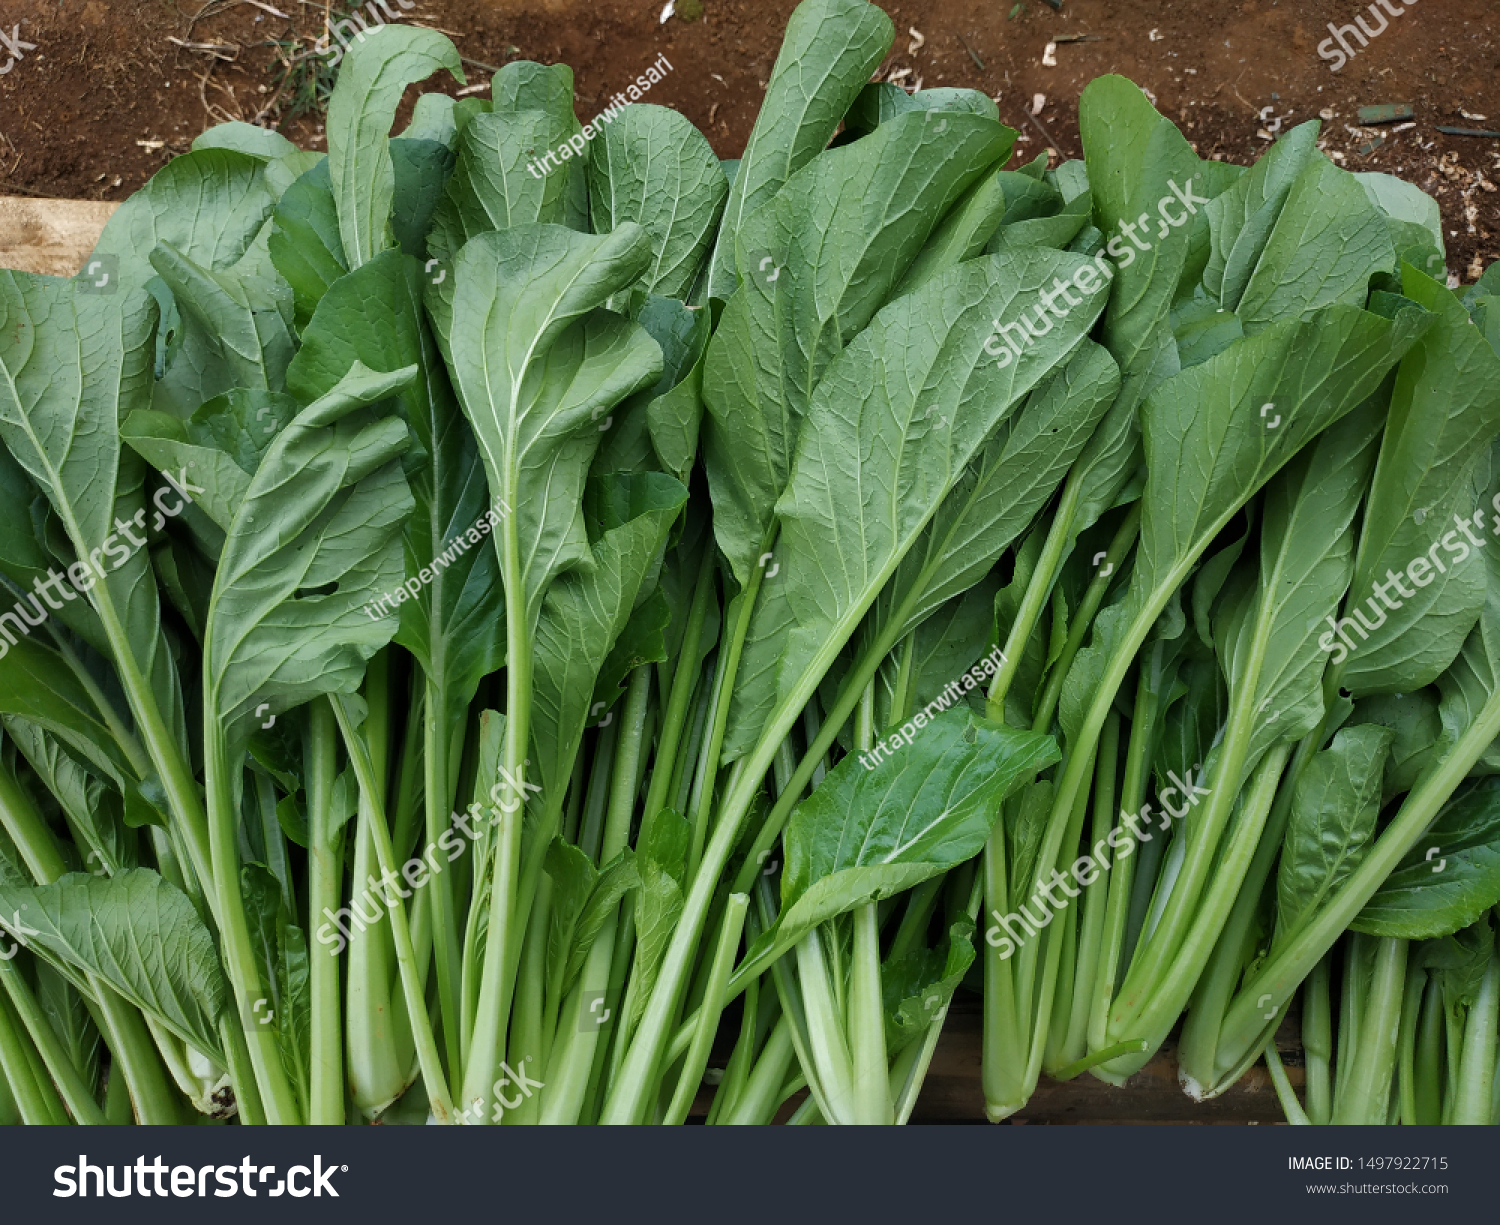Sawi: (56, 107, 1485, 1107)
